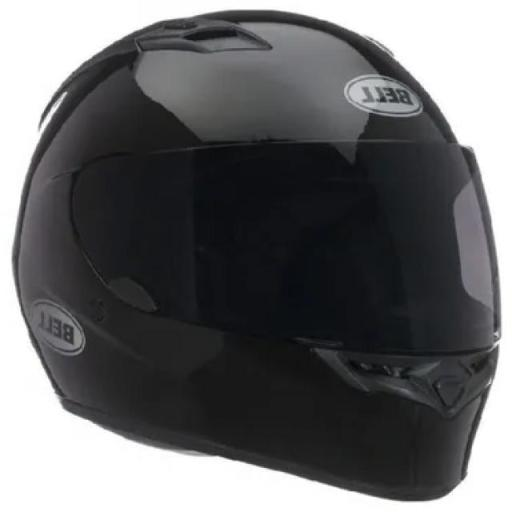Helmet: (14, 12, 499, 499)
